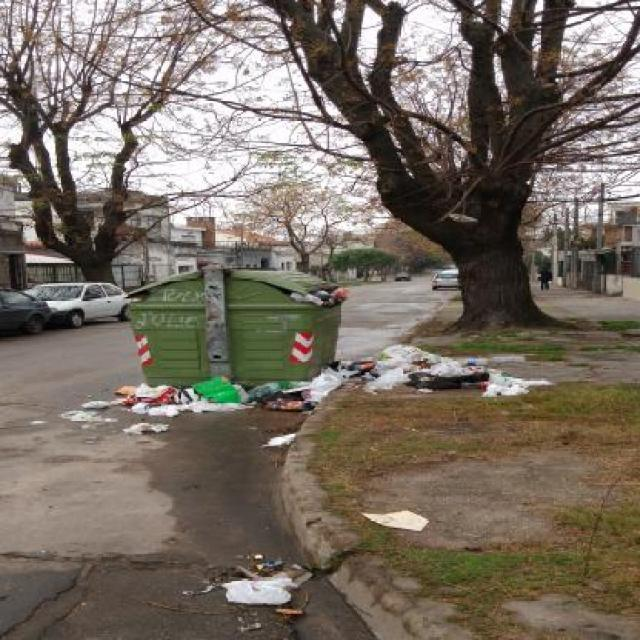garbage: (91, 371, 352, 418)
